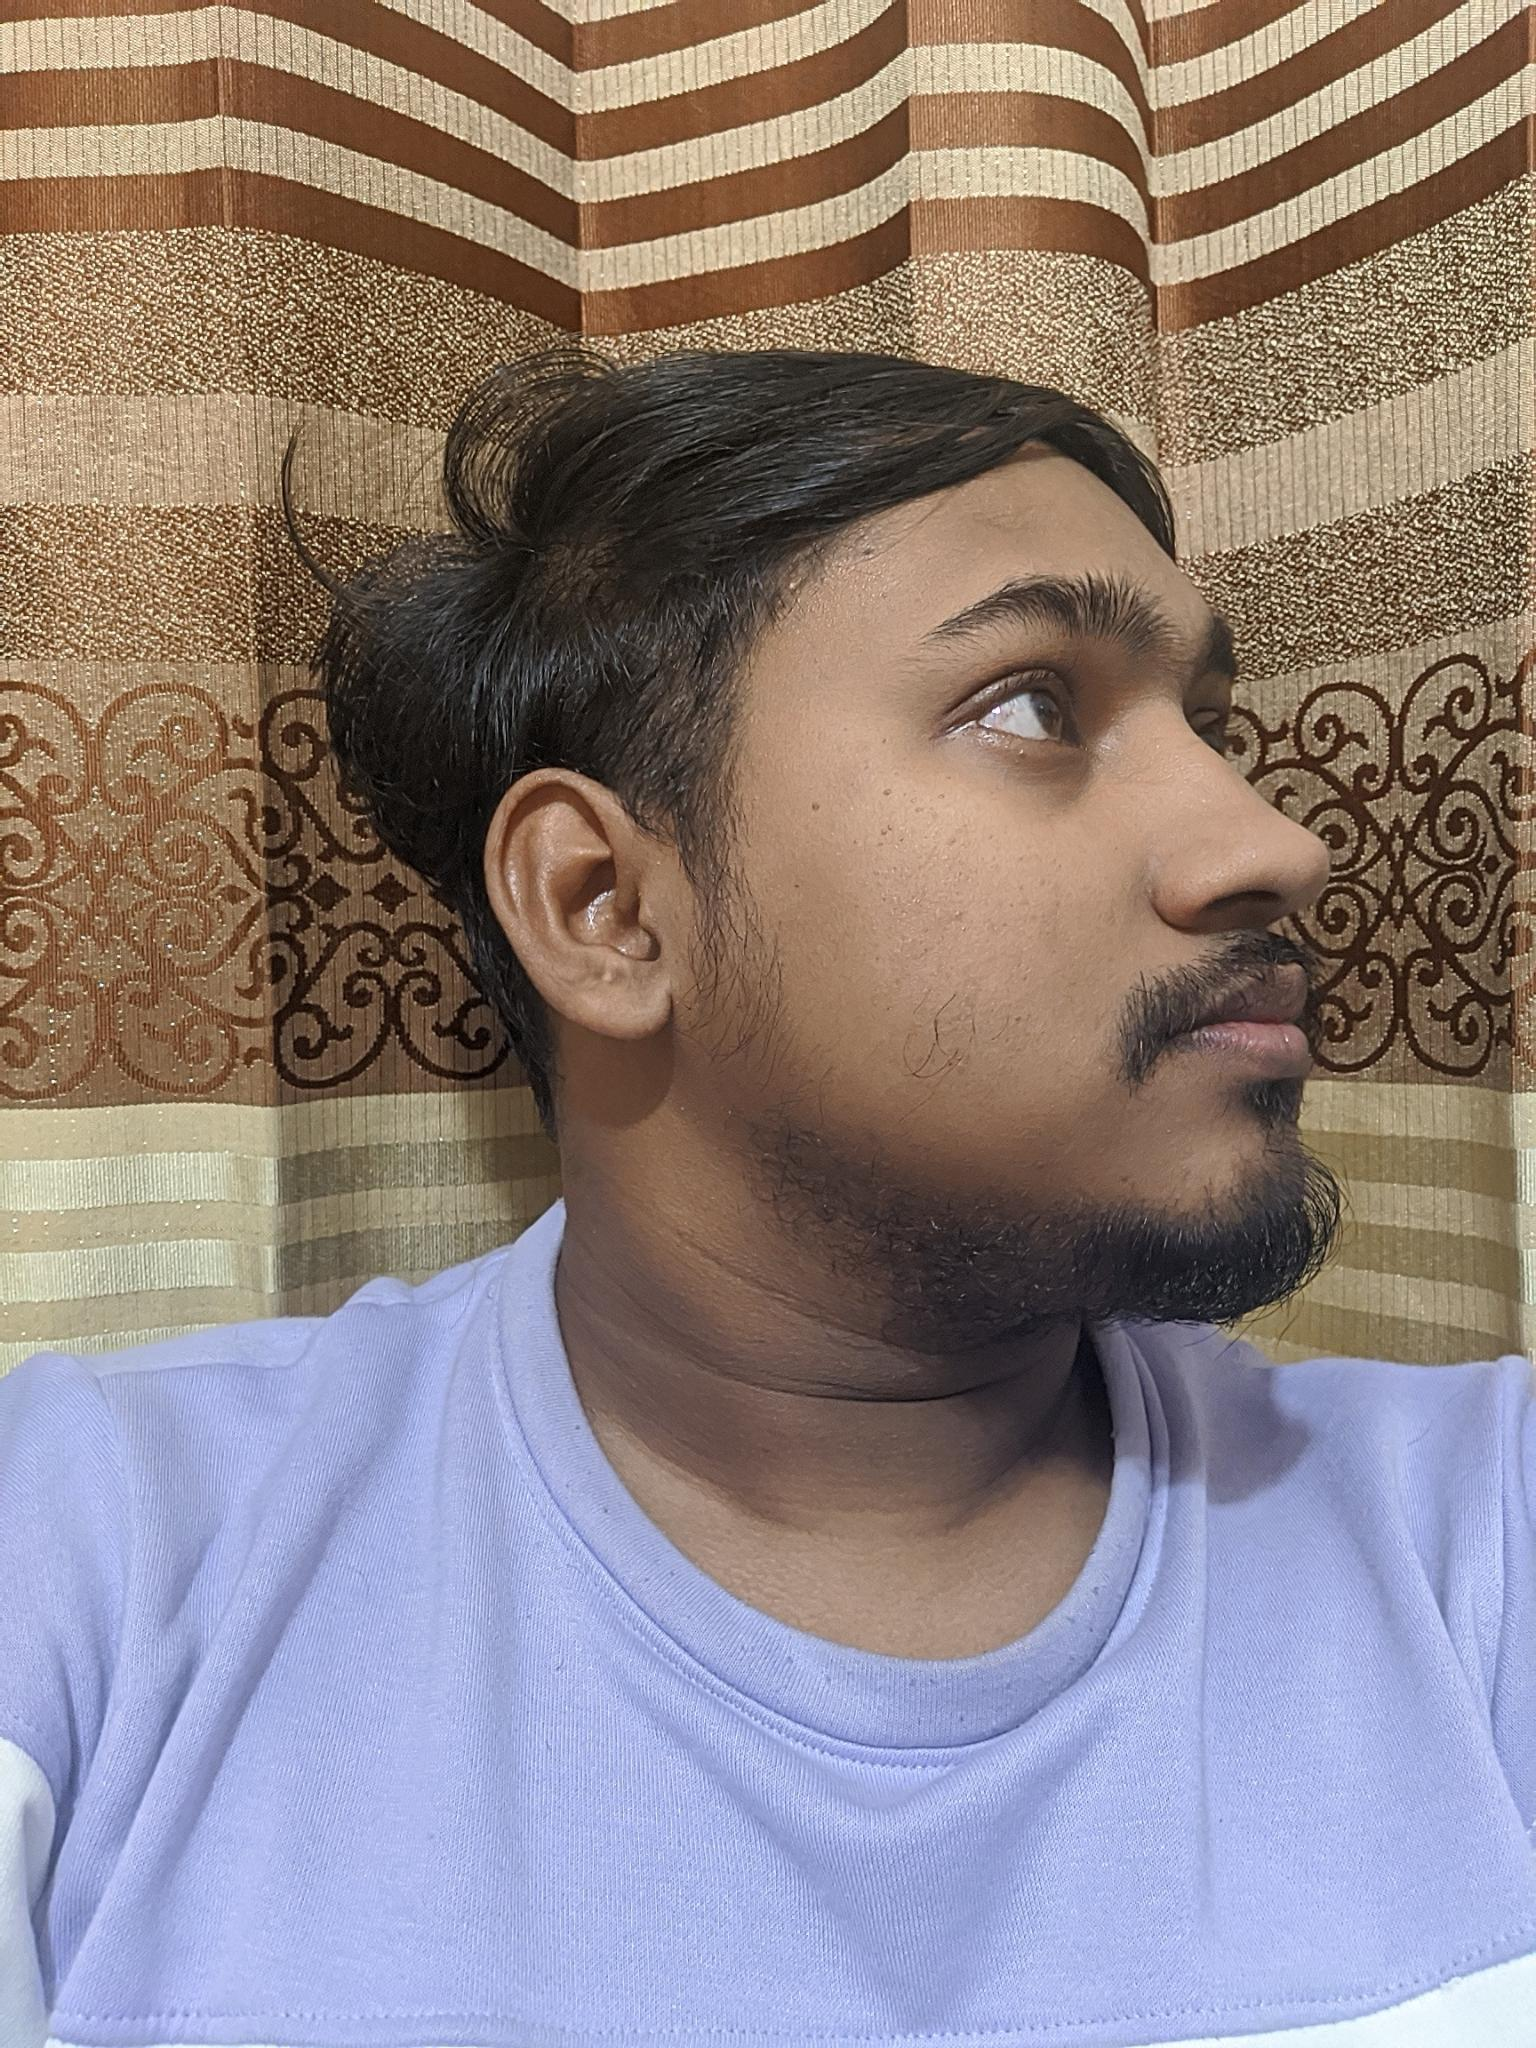Neutral: (739, 508, 1379, 1314)
